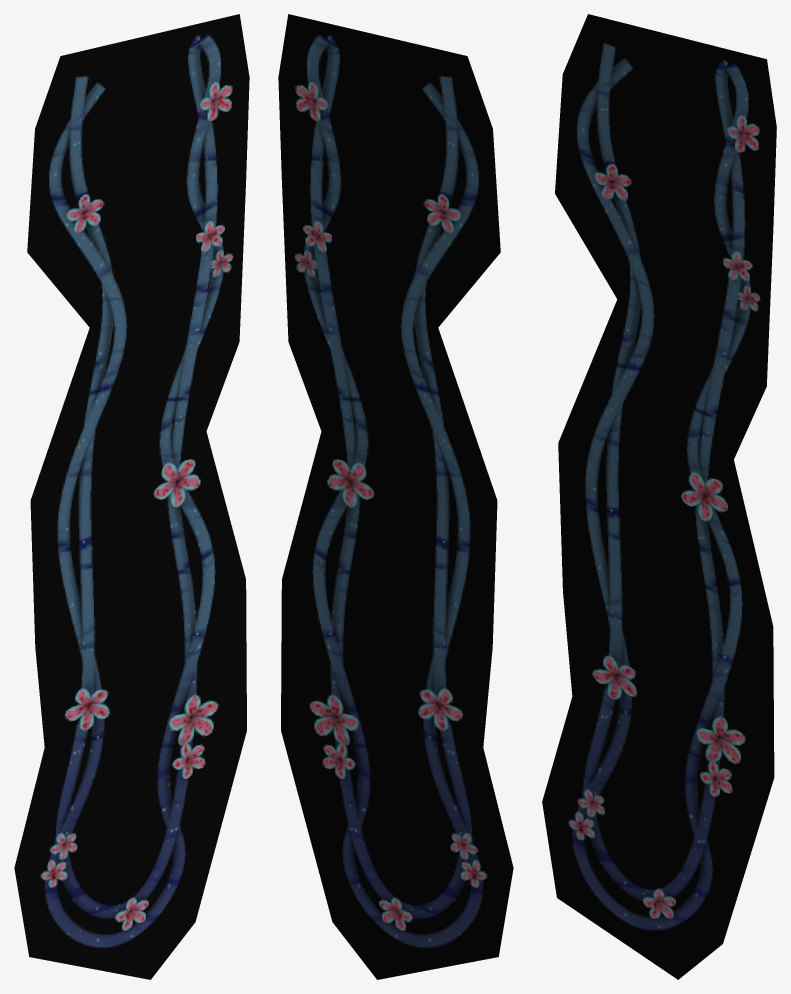
File: MarshVine_c01.fbx
The picture shows the model from 3 angles, left to right: view 1: azimuth 30°, elevation 25°; view 2: azimuth 150°, elevation 25°; view 3: azimuth 330°, elevation 25°; orthographic projection.
Parts seen in each view (by area): view 1: Vine_c01; view 2: Vine_c01; view 3: Vine_c01.
Part boxes in pixels (left/top/right/bottom): Vine_c01: left=14, top=14, right=249, bottom=979; Vine_c01: left=278, top=14, right=513, bottom=979; Vine_c01: left=542, top=14, right=776, bottom=979.
Bounding box in the file's own units: 70.82 × 272 × 0.
